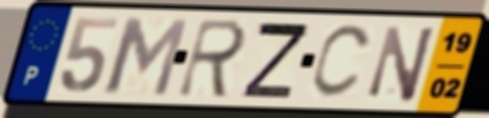5: (58, 15, 122, 95)
C: (307, 22, 376, 102)
M: (102, 14, 192, 99)
N: (365, 23, 439, 105)
R: (174, 16, 251, 101)
Z: (239, 19, 313, 101)
